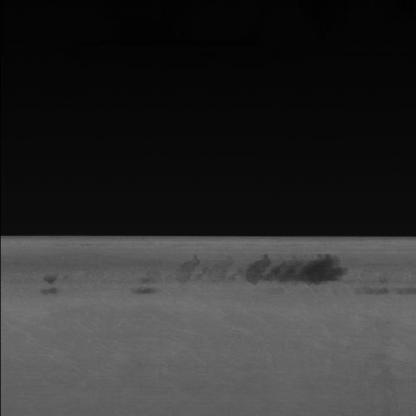oil_spot: (174, 251, 350, 287), (35, 268, 172, 298), (344, 281, 413, 298)
